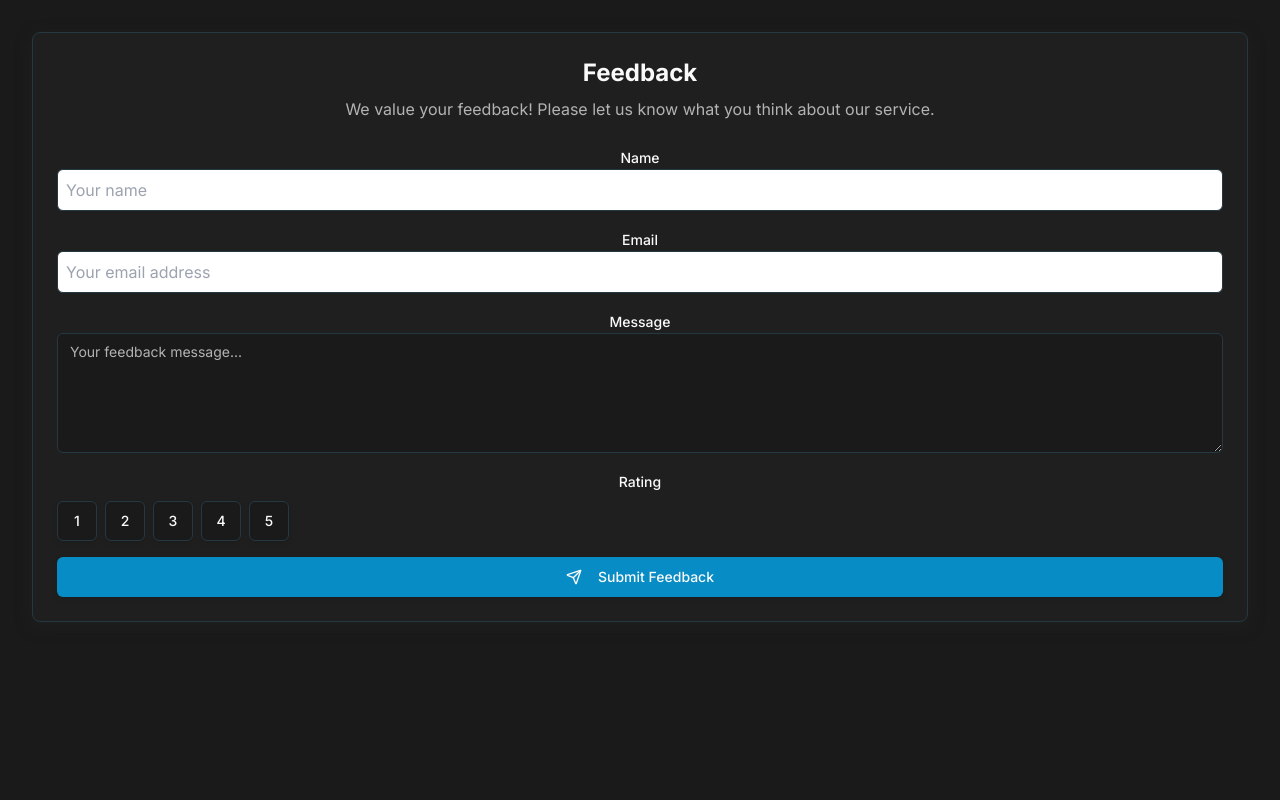
Test: FeedbackForm Component › submits form with valid data
Fill out the form
Step 1. Type "Test User" into the field labelled "Name" → (640, 190), box [57,169,1223,211]
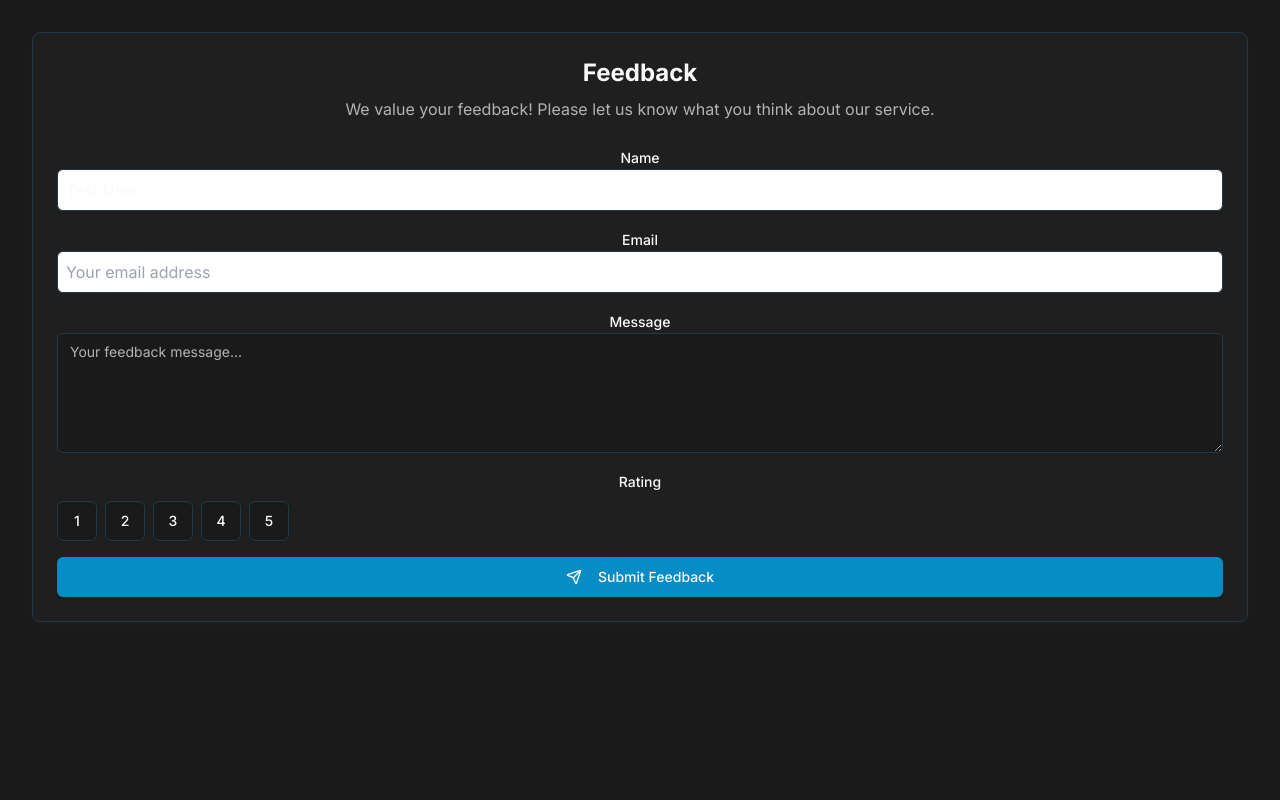
Step 2. Type "test@example.com" into the field labelled "Email" → (640, 272), box [57,251,1223,293]
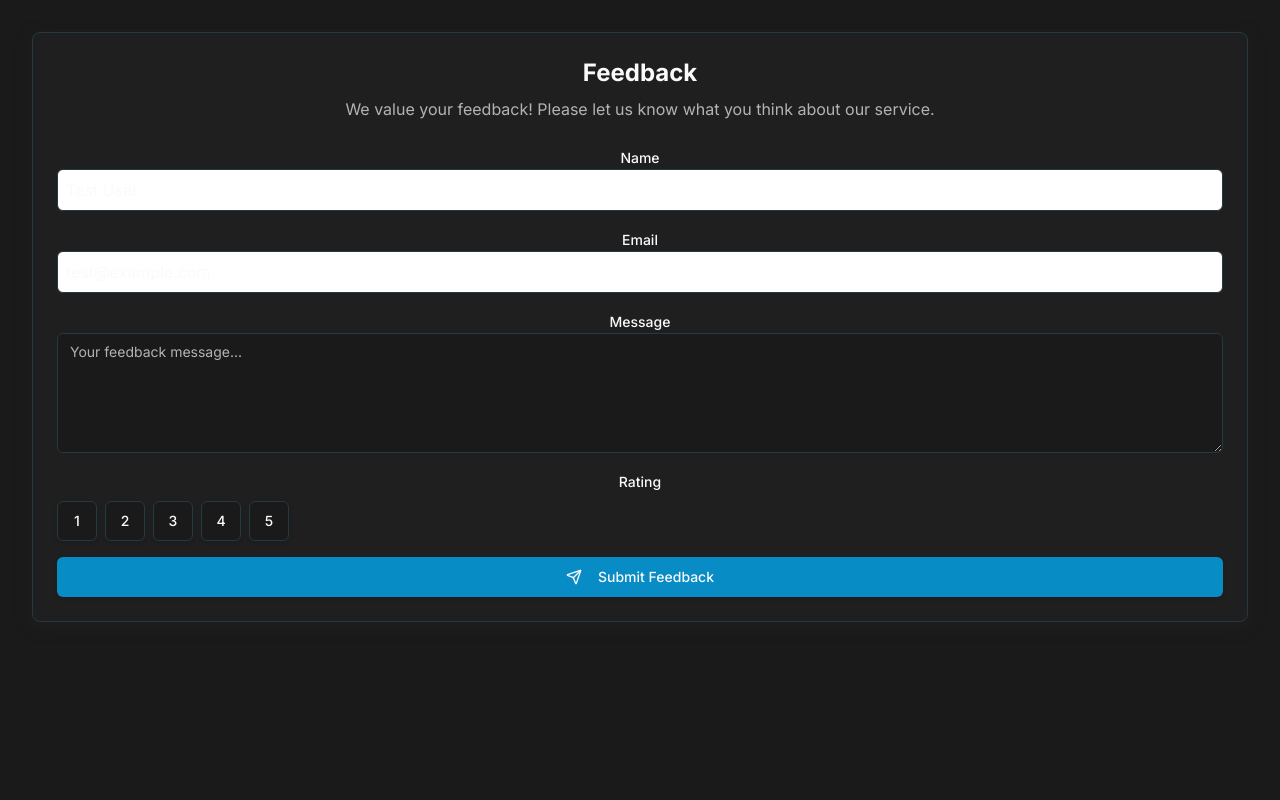
Step 3. Type "This is a test message that is long enough." into the text box labelled "Message" → (640, 393), box [57,333,1223,453]
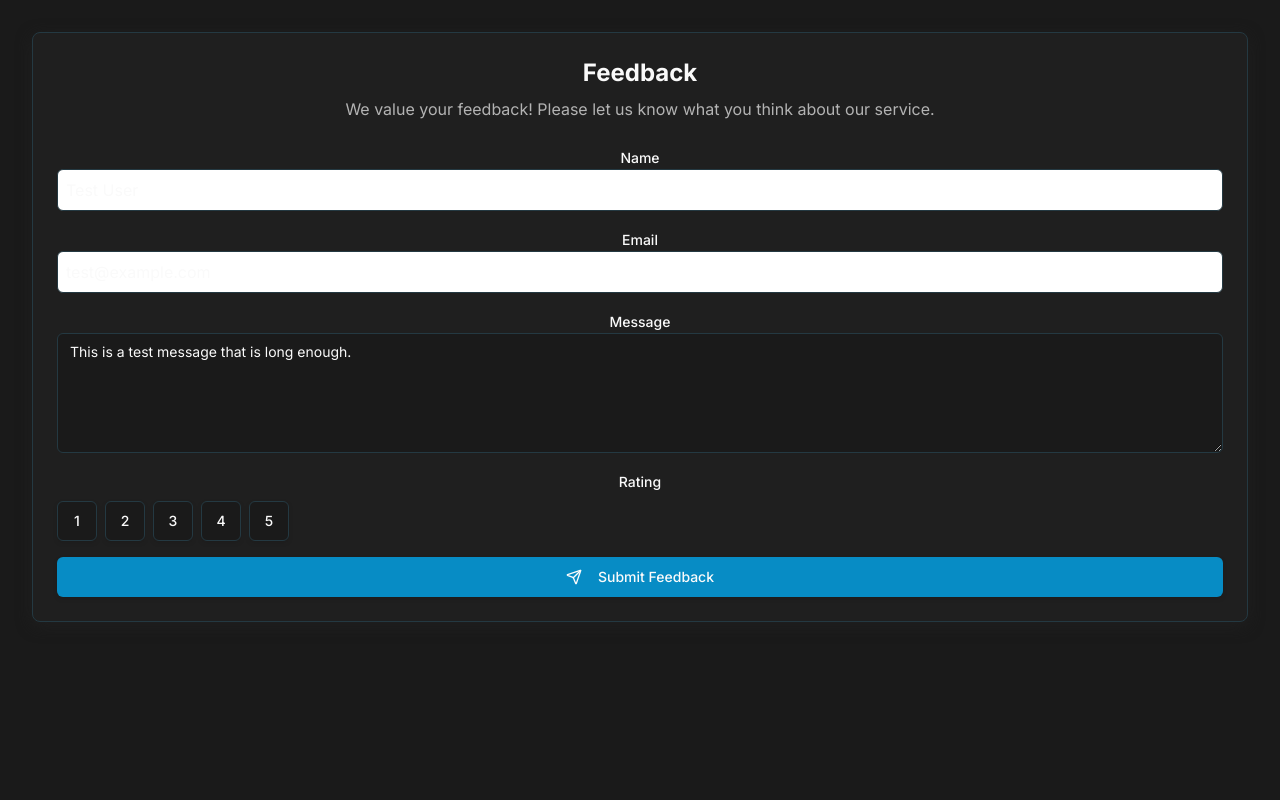
Select rating
Step 4. Click the button "4" → (221, 521), box [201,501,241,541]
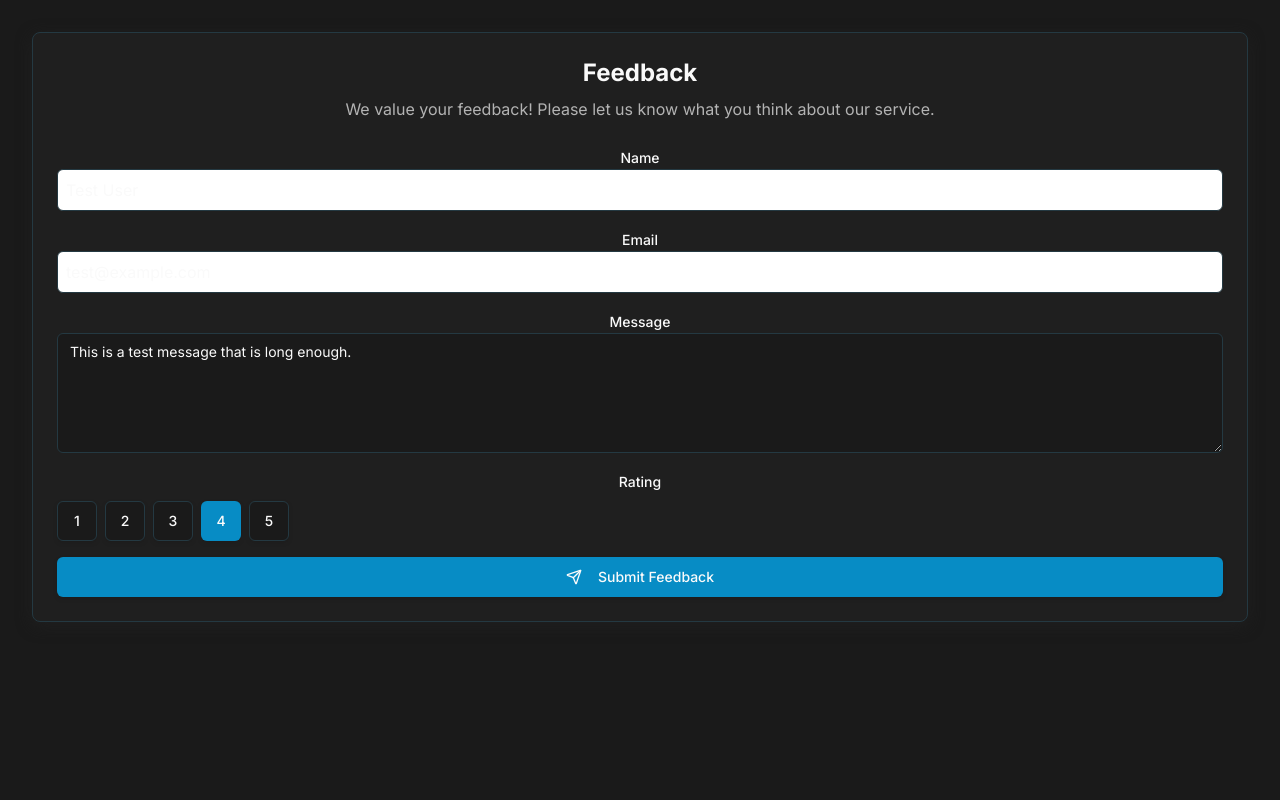
Submit form
Step 5. Click the button "Submit Feedback" → (640, 577), box [57,557,1223,597]
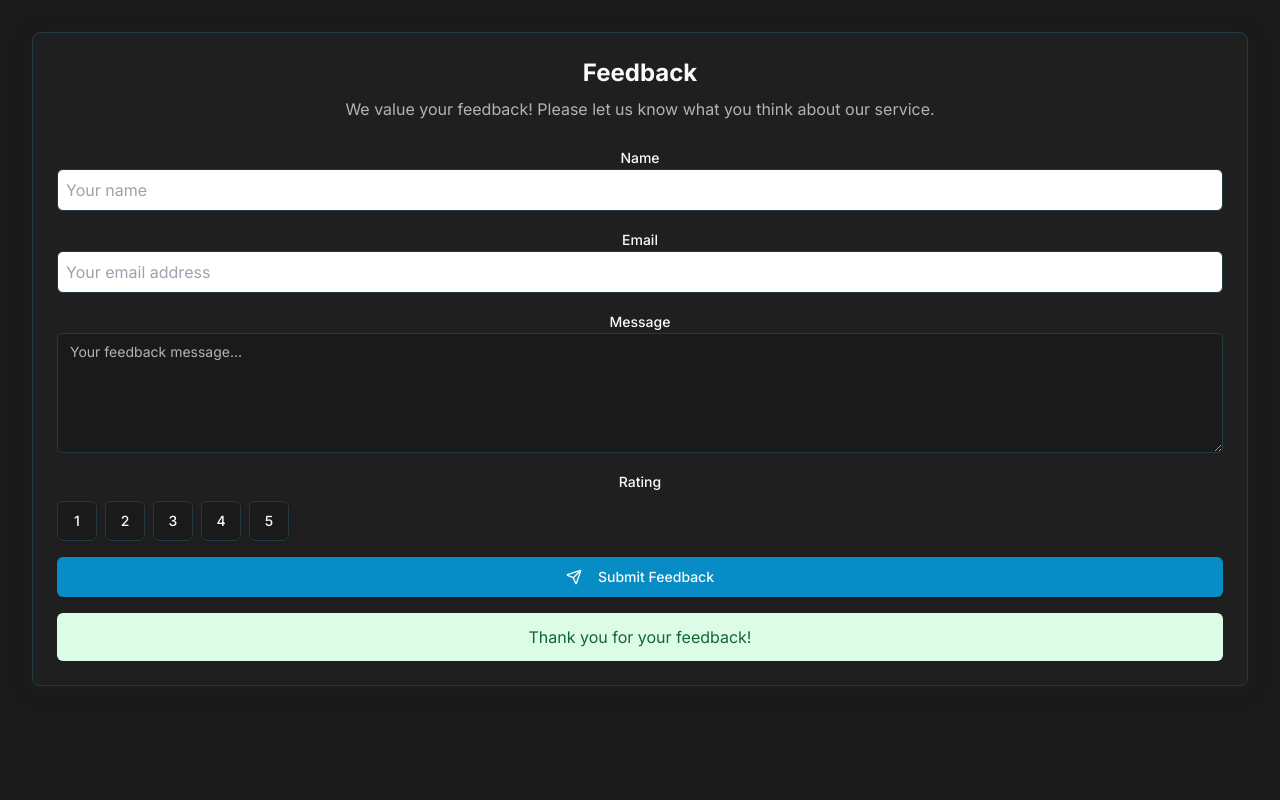
Expected: the text "Thank you for your feedback!" is shown, [57,613,1223,661]
